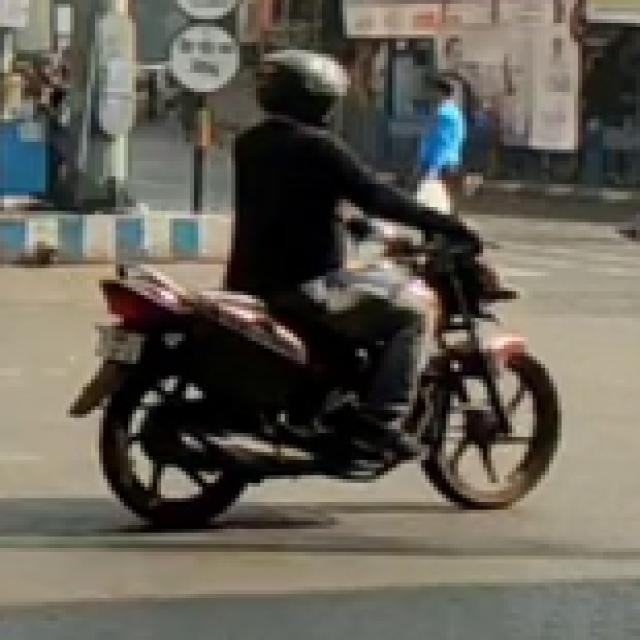Motorized2wheleer: (70, 207, 564, 537)
